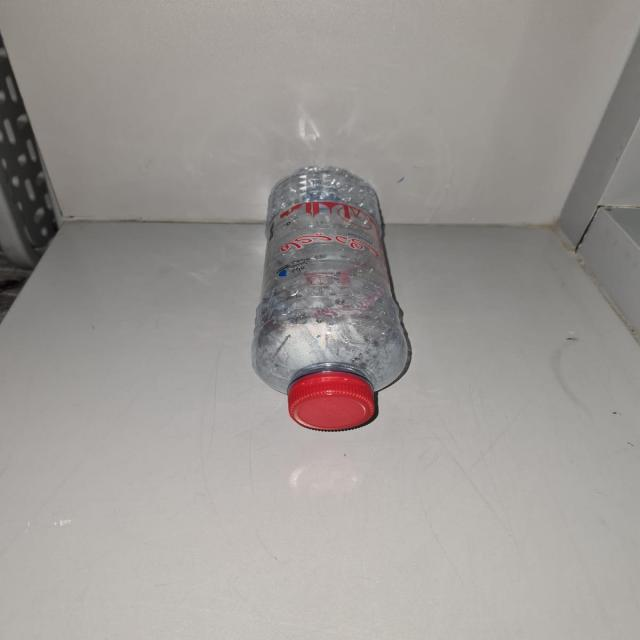bottle: (239, 161, 426, 411)
